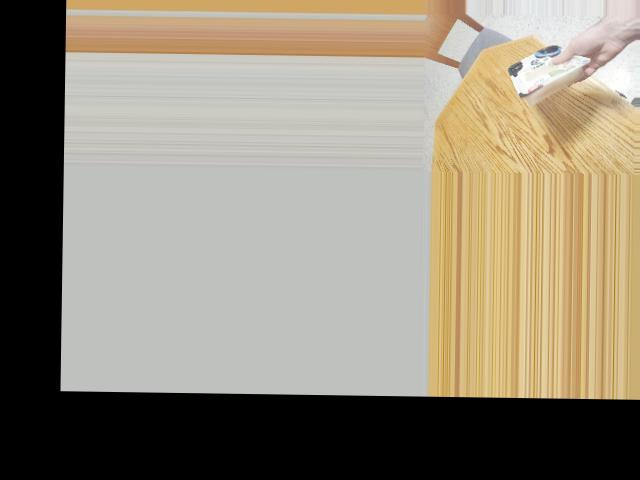cheese: (511, 34, 577, 112)
